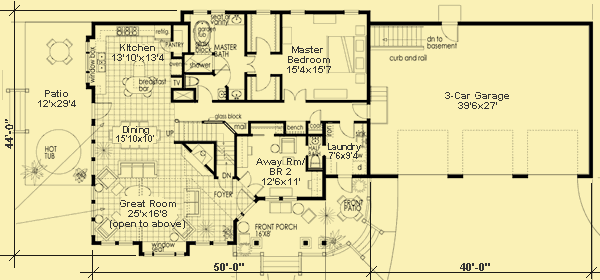bed: (324, 32, 366, 75)
dining table: (107, 117, 163, 152)
door: (239, 169, 266, 197), (235, 188, 258, 215), (89, 98, 114, 122), (439, 18, 462, 43), (214, 171, 236, 195), (348, 100, 372, 121), (282, 86, 309, 104), (254, 71, 274, 94), (335, 171, 354, 195), (214, 64, 232, 88), (253, 34, 272, 56), (336, 117, 355, 139), (195, 84, 214, 104), (212, 54, 233, 72), (243, 52, 257, 74), (307, 108, 323, 124)
kitchen bar: (122, 73, 156, 100)
large sofa: (116, 159, 162, 182), (184, 187, 202, 218), (268, 201, 294, 216)
round table: (44, 36, 76, 67), (333, 193, 364, 222)
small sink: (228, 13, 246, 26)
small sofa: (96, 164, 120, 190), (172, 216, 197, 240), (95, 216, 118, 241), (278, 135, 298, 156), (301, 207, 318, 225)
stairs: (175, 121, 237, 173), (369, 22, 427, 52), (367, 84, 392, 126), (261, 252, 303, 276)
windows: (84, 38, 95, 85), (88, 184, 97, 234), (141, 248, 185, 258), (195, 238, 230, 249), (191, 8, 227, 17), (288, 7, 310, 18), (255, 7, 271, 18), (341, 7, 360, 16)
